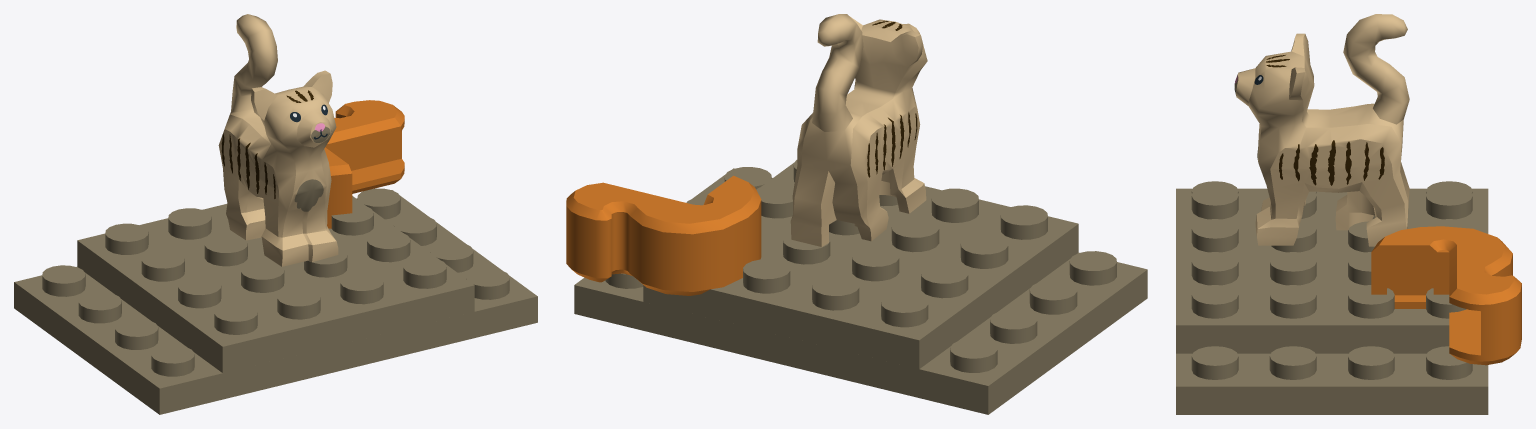
The model's file is 002-generated_cat.glb.
3 views of the same model, side by side, from view 1: azimuth 30°, elevation 25°; view 2: azimuth 150°, elevation 25°; view 3: azimuth 270°, elevation 25° (orthographic). The views are drawn at different scales.
Visible parts, largest first — view 1: 3031.dat, 3032.dat, 13786p02.dat, 15429.dat; view 2: 3031.dat, 3032.dat, 13786p02.dat, 15429.dat; view 3: 3031.dat, 13786p02.dat, 3032.dat, 15429.dat.
Boxes of the visible parts, x1,y1,x2,y2 form: 3031.dat: (77, 196, 474, 372); 3032.dat: (14, 188, 537, 414); 13786p02.dat: (218, 14, 338, 266); 15429.dat: (324, 100, 404, 228); 3031.dat: (643, 160, 1078, 369); 3032.dat: (574, 167, 1147, 414); 13786p02.dat: (790, 14, 927, 246); 15429.dat: (566, 175, 761, 295); 3031.dat: (1176, 186, 1488, 353); 13786p02.dat: (1234, 14, 1409, 246); 3032.dat: (1176, 181, 1488, 414); 15429.dat: (1371, 226, 1521, 365).
Size of the model in its own units: 0.0488 by 0.0342 by 0.0354.
